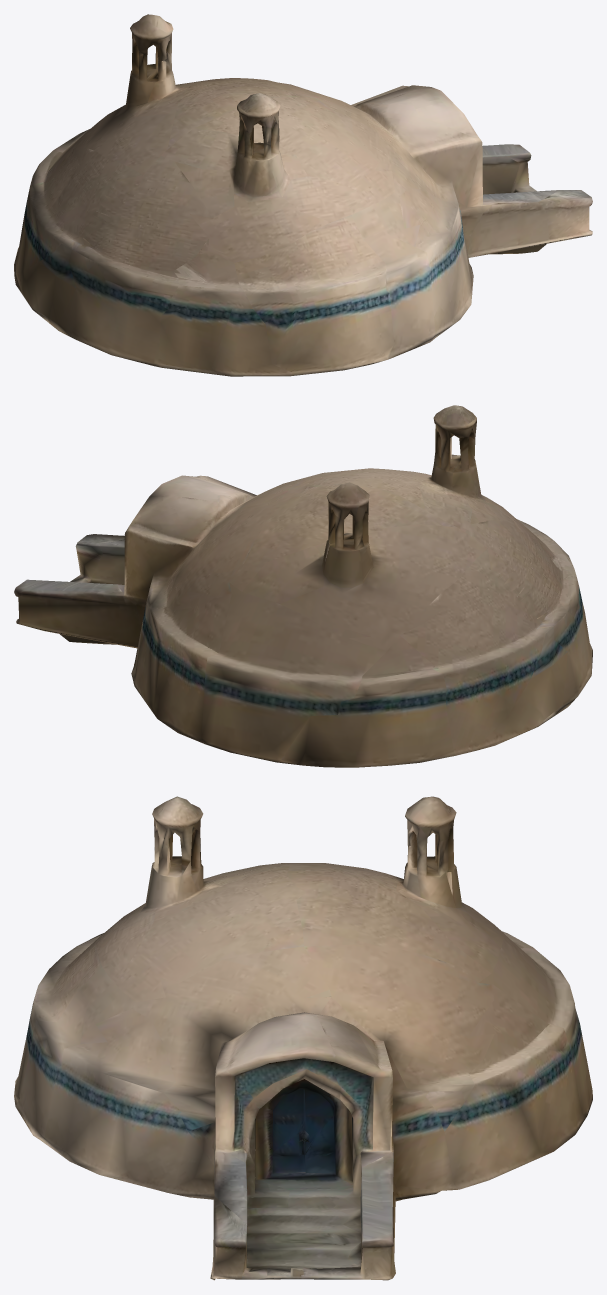
Rendered from well_abanbar.glb.
The picture shows the model from 3 angles, top to bottom: view 1: azimuth 30°, elevation 25°; view 2: azimuth 150°, elevation 25°; view 3: azimuth 270°, elevation 25°; orthographic projection. The views are drawn at different scales.
Visible parts, largest first — view 1: tripo_node_321ca93c-04e6-4410-9756-c9dc39859349; view 2: tripo_node_321ca93c-04e6-4410-9756-c9dc39859349; view 3: tripo_node_321ca93c-04e6-4410-9756-c9dc39859349.
Part boxes in pixels (box(x1,y1,x2,y2)): tripo_node_321ca93c-04e6-4410-9756-c9dc39859349: box(14, 14, 592, 376); tripo_node_321ca93c-04e6-4410-9756-c9dc39859349: box(14, 405, 592, 767); tripo_node_321ca93c-04e6-4410-9756-c9dc39859349: box(14, 796, 592, 1280).
Size of the model in its own units: 0.9773 by 0.469 by 0.8163.
Materials: 1 (1 with a texture image).
